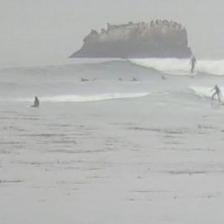surfer: (210, 85, 223, 102), (190, 56, 198, 74), (31, 96, 40, 108), (81, 77, 97, 81), (130, 76, 139, 82), (160, 75, 167, 82), (117, 76, 124, 82)
